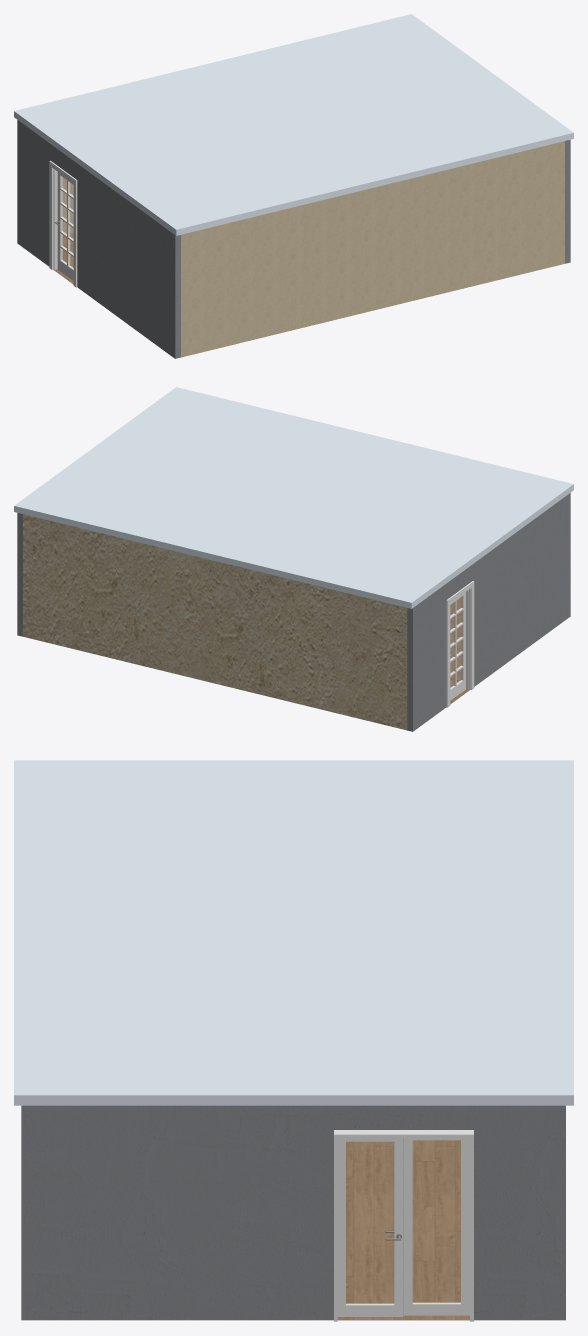
Rendered from home.gltf.
3 renders of one model, top to bottom at view 1: azimuth 30°, elevation 25°; view 2: azimuth 150°, elevation 25°; view 3: azimuth 270°, elevation 25°, orthographic. The views are drawn at different scales.
Parts seen in each view (by area): view 1: Cube, Wall.003, Wall, Block:DOORWIZ-11; view 2: Cube, Wall.001, Wall, Block:DOORWIZ-11, FloorNew; view 3: Cube, Wall, FloorNew, Rectangle044, Rectangle043, Line051.002.
Boxes of the visible parts, left/top/right/bottom form: Cube: left=14, top=14, right=573, bottom=235; Wall.003: left=181, top=141, right=564, bottom=357; Wall: left=17, top=120, right=570, bottom=358; Block:DOORWIZ-11: left=49, top=160, right=77, bottom=287; Cube: left=14, top=387, right=573, bottom=608; Wall.001: left=23, top=514, right=407, bottom=730; Wall: left=17, top=493, right=570, bottom=731; Block:DOORWIZ-11: left=446, top=581, right=474, bottom=707; FloorNew: left=413, top=597, right=484, bottom=731; Cube: left=14, top=760, right=573, bottom=1105; Wall: left=21, top=1105, right=565, bottom=1320; FloorNew: left=127, top=1138, right=555, bottom=1320; Rectangle044: left=337, top=1138, right=403, bottom=1316; Rectangle043: left=403, top=1138, right=469, bottom=1315; Line051.002: left=334, top=1130, right=473, bottom=1321.
Bounding box in the file's own units: 7.99 × 2.48 × 5.58.
Materials: 12 (6 with a texture image).
